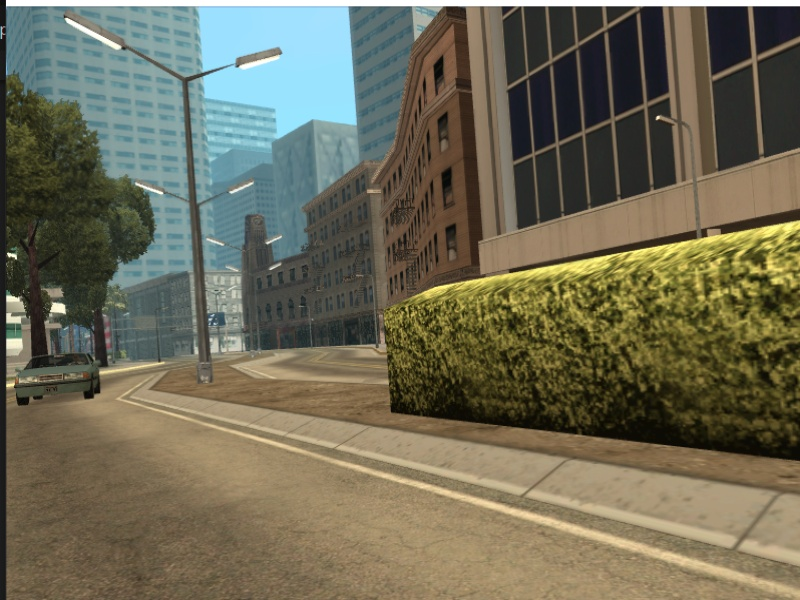pole: (176, 73, 221, 386)
tree: (19, 241, 61, 354), (90, 315, 115, 370)
vehicle: (13, 354, 106, 406)
